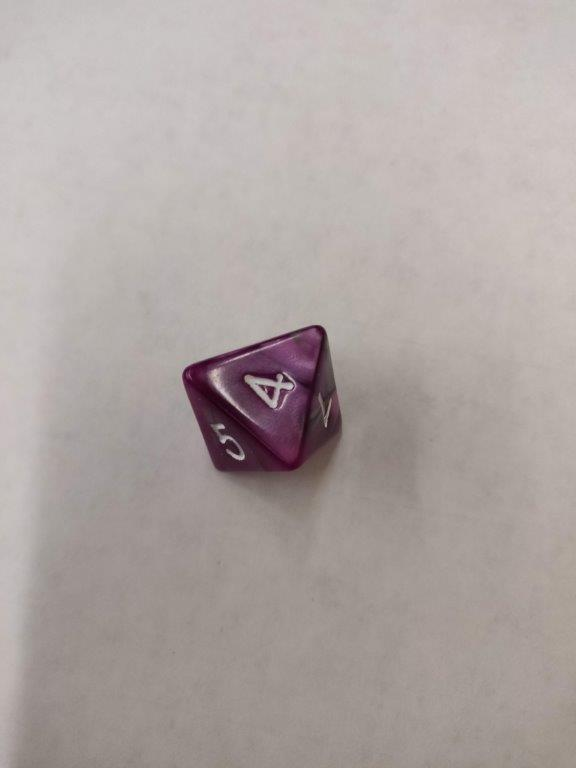d8-4: (182, 327, 347, 478)
